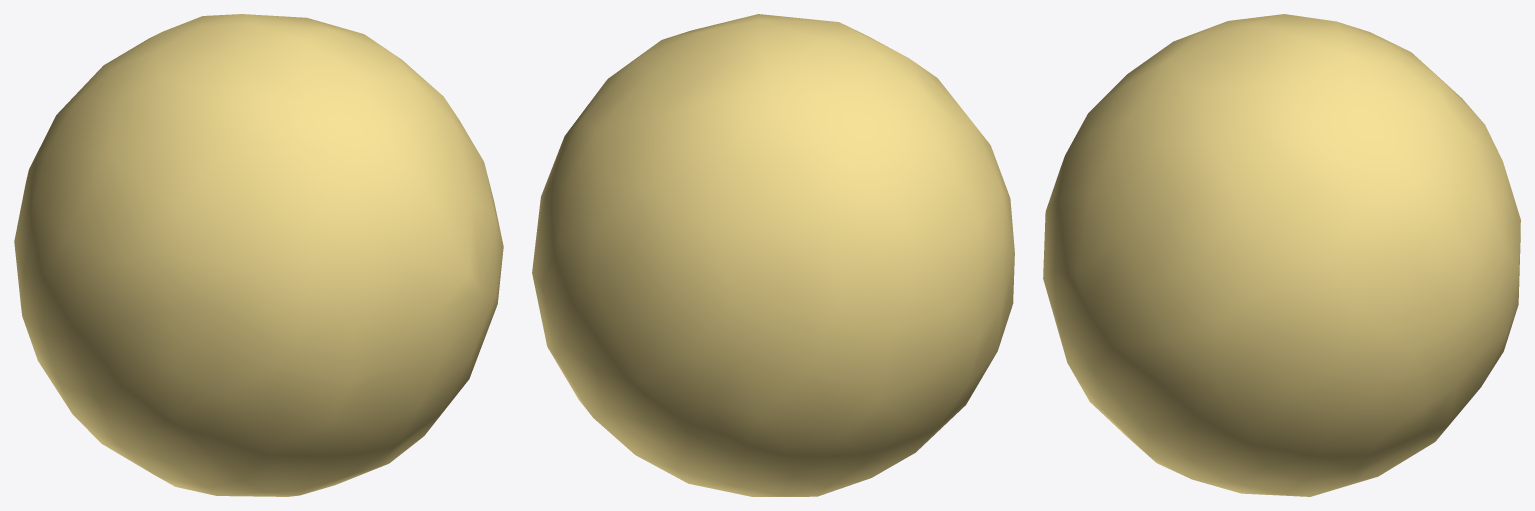
The model's file is fma77531-l_mm2598.glb.
The picture shows the model from 3 angles, left to right: view 1: azimuth 30°, elevation 25°; view 2: azimuth 150°, elevation 25°; view 3: azimuth 270°, elevation 25°; orthographic projection.
Parts seen in each view (by area): view 1: FMA77531-L_MM2598; view 2: FMA77531-L_MM2598; view 3: FMA77531-L_MM2598.
Part boxes in pixels (x1,y1,x2,y2): FMA77531-L_MM2598: [14, 14, 503, 496]; FMA77531-L_MM2598: [532, 14, 1014, 496]; FMA77531-L_MM2598: [1043, 14, 1520, 496].
Bounding box in the file's own units: 0.0021 × 0.00211 × 0.00209.
